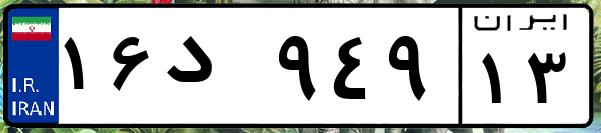1: (57, 26, 110, 100), (475, 38, 525, 113)
3: (525, 38, 570, 115)
4: (330, 28, 385, 110)
6: (110, 28, 158, 98)
9: (270, 28, 330, 110), (385, 28, 445, 110)
د: (158, 20, 270, 120)
